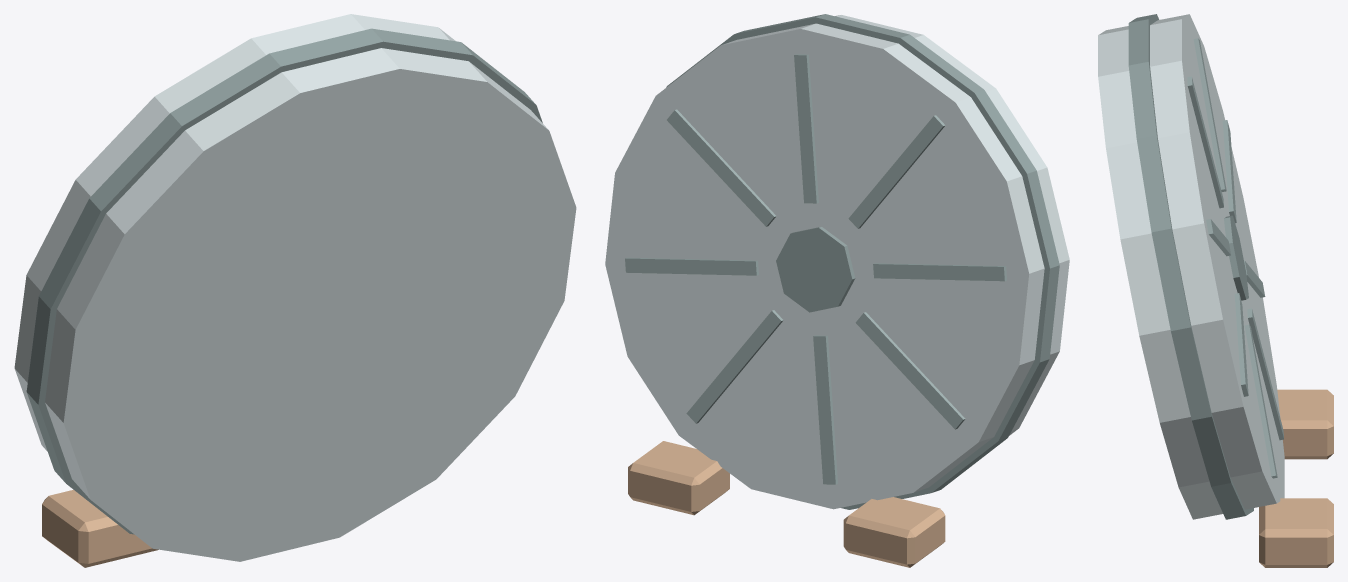
The model's file is millstone.glb.
3 renders of one model, left to right at view 1: azimuth 30°, elevation 25°; view 2: azimuth 150°, elevation 25°; view 3: azimuth 270°, elevation 25°, orthographic. The views are drawn at different scales.
Visible parts, largest first — view 1: Millstone; view 2: Millstone; view 3: Millstone.
Boxes of the visible parts, box(x1,y1,x2,y2) form: Millstone: box(14, 14, 576, 567); Millstone: box(605, 14, 1069, 567); Millstone: box(1098, 14, 1333, 567).
Bounding box in the file's own units: 0.8595 × 0.8581 × 0.4001.
